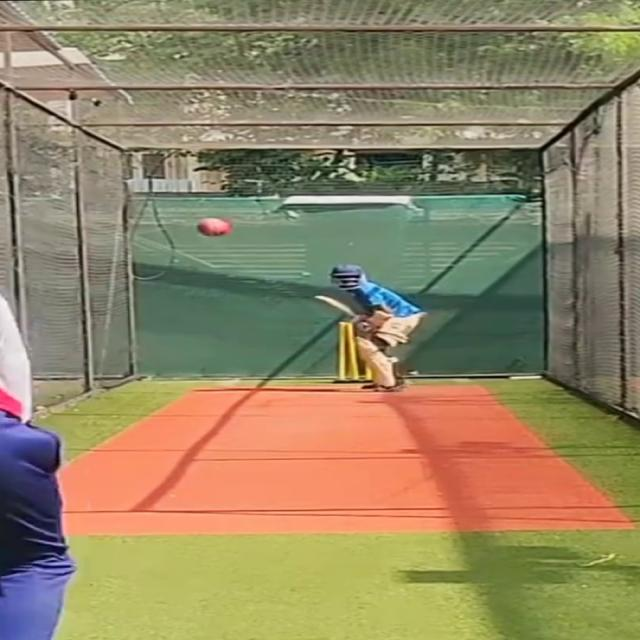ball: (193, 216, 231, 238)
stump: (332, 319, 360, 384)
